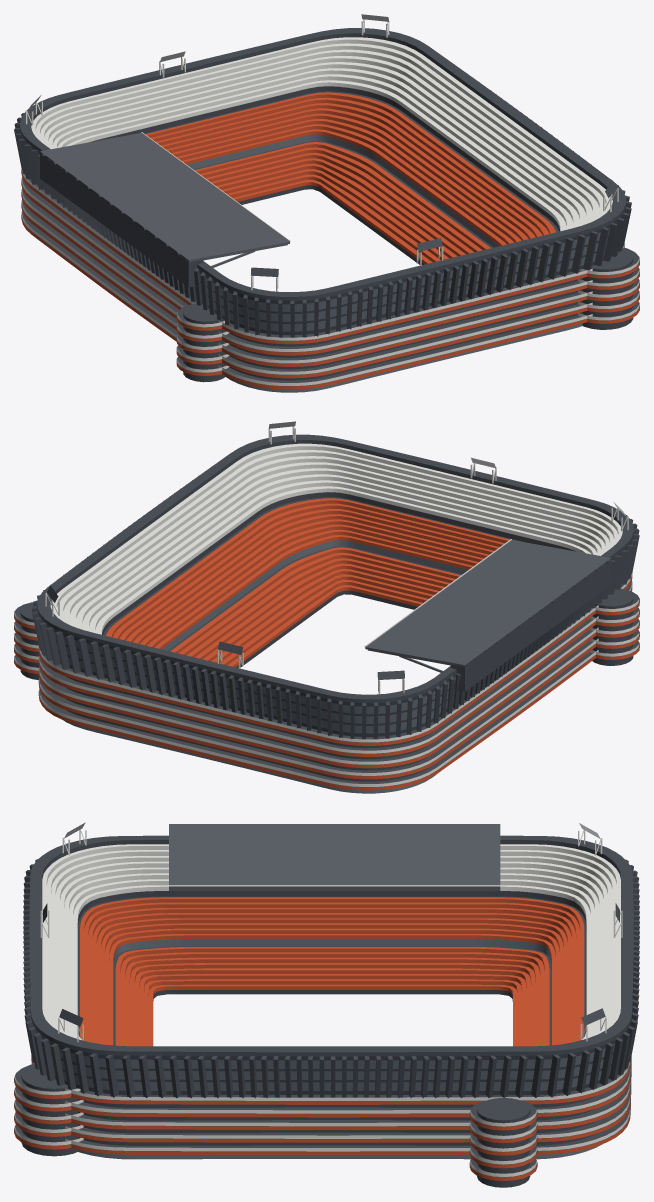
File: valencia-mestalla.detail.glb
The picture shows the model from 3 angles, top to bottom: view 1: azimuth 30°, elevation 25°; view 2: azimuth 150°, elevation 25°; view 3: azimuth 270°, elevation 25°; orthographic projection. The views are drawn at different scales.
Parts seen in each view (by area): view 1: Mestalla; view 2: Mestalla; view 3: Mestalla.
Boxes of the visible parts, <box> form: Mestalla: <box>14,14,639,392</box>; Mestalla: <box>14,421,639,793</box>; Mestalla: <box>14,822,639,1187</box>.
Size of the model in its own units: 195 by 48.5 by 202.
